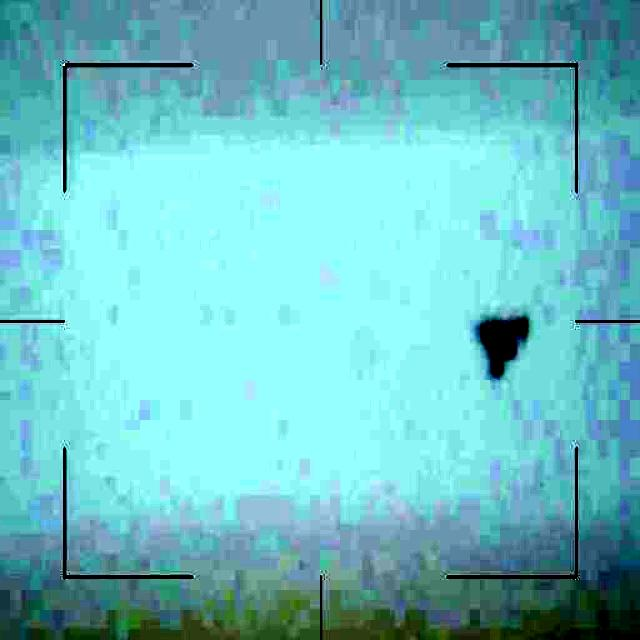bird: (472, 310, 536, 379)
